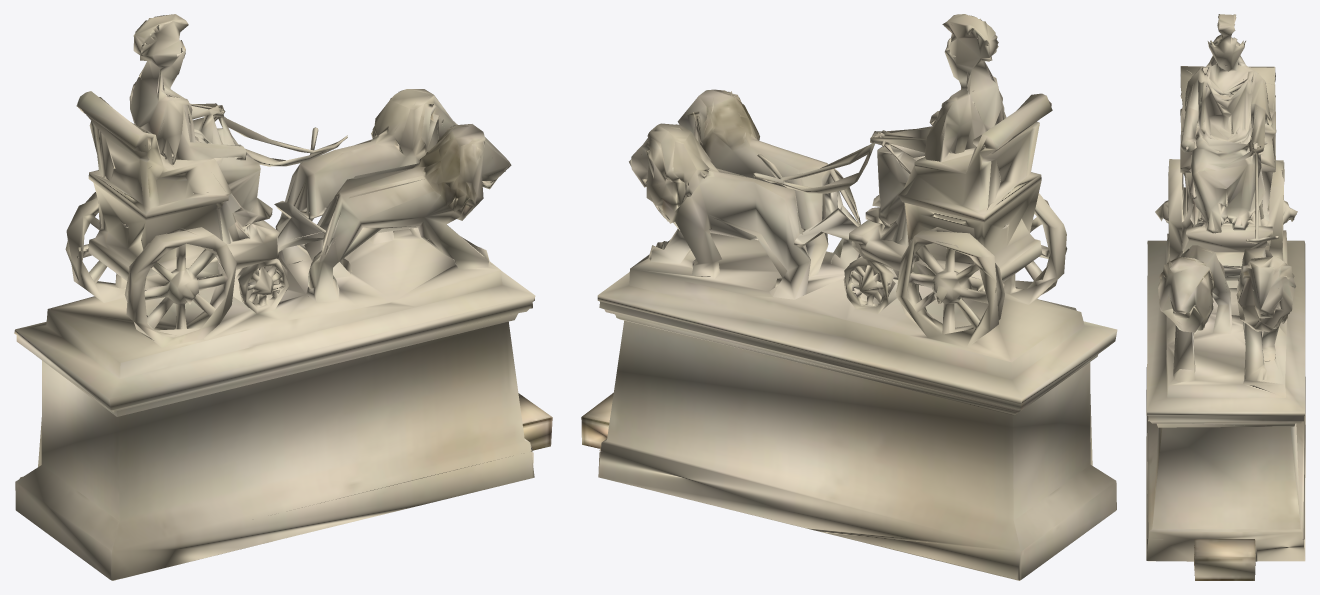
Rendered from madrid-cibeles.glb.
3 views of the same model, side by side, from view 1: azimuth 30°, elevation 25°; view 2: azimuth 150°, elevation 25°; view 3: azimuth 270°, elevation 25° (orthographic). The views are drawn at different scales.
Parts seen in each view (by area): view 1: geometry_0; view 2: geometry_0; view 3: geometry_0.
Boxes of the visible parts, bbox=[...] form: geometry_0: bbox=[14, 14, 552, 580]; geometry_0: bbox=[581, 14, 1117, 580]; geometry_0: bbox=[1146, 14, 1305, 580].
Size of the model in its own units: 0.9785 by 1 by 0.3477.
Materials: 1 (1 with a texture image).
